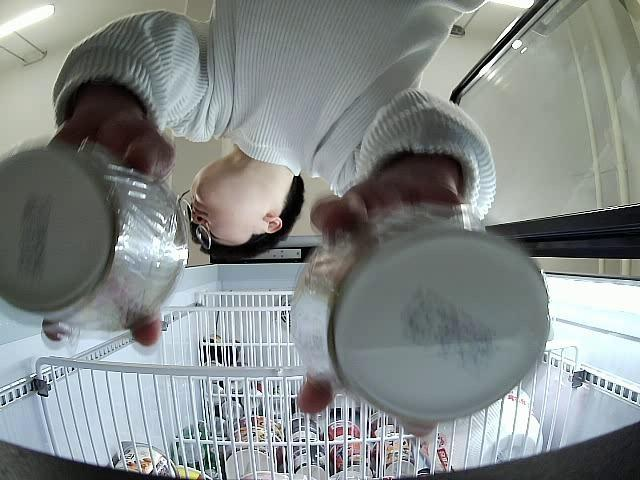04_chapagetti_S: (290, 202, 550, 424), (0, 144, 188, 328)
